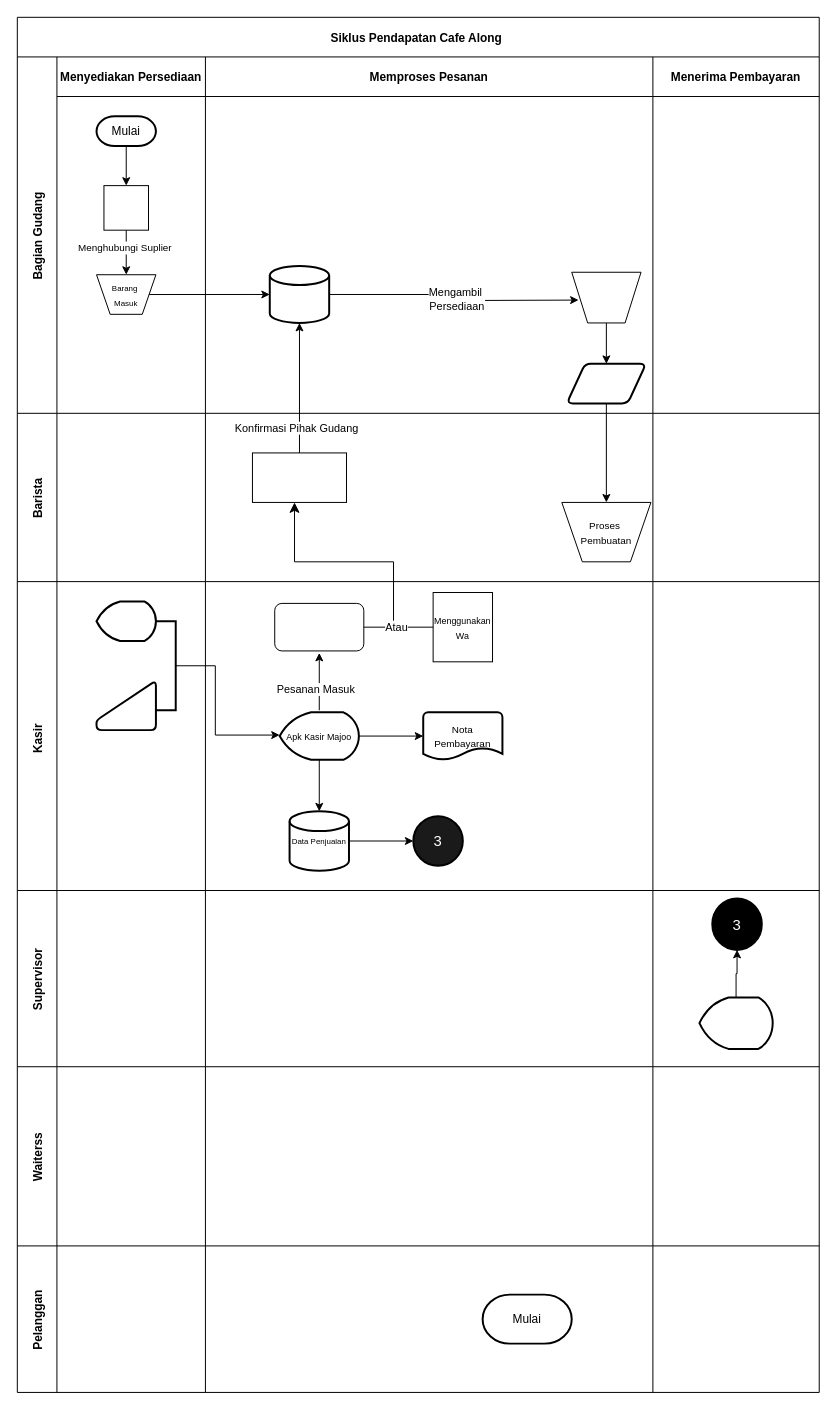
Some shapes in this 837 by 1410 pixel diagram are drawn without their labels. Here are the shapes that lost their labels. From the top down, the box of each, then its label:
(268, 265, 330, 323): Penyimpanan persediaaan
(571, 271, 641, 323): Barang Keluar
(565, 362, 646, 404): Mencatat Persediaan
(251, 452, 346, 502): Notifikasi Masuk
(274, 602, 364, 651): Menggunakan HT
(698, 996, 773, 1049): Analisis Penjualan
